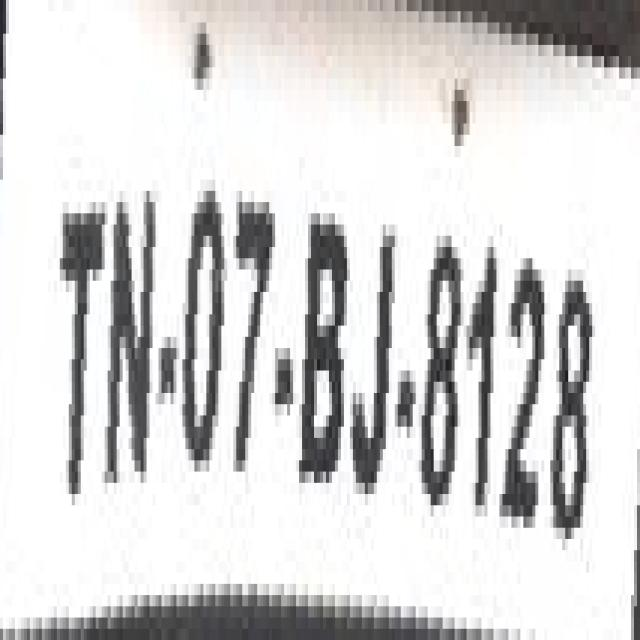license_plate: (0, 23, 604, 595)
